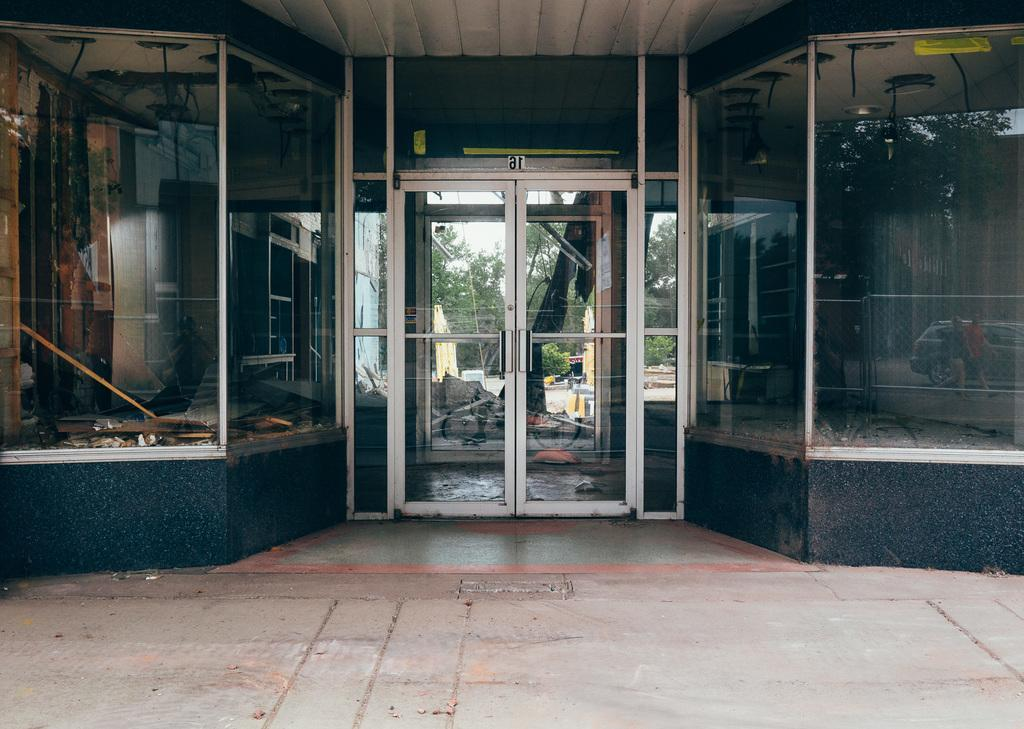door: (398, 190, 514, 512), (515, 185, 628, 514)
handle: (514, 320, 534, 384), (494, 325, 512, 386)
